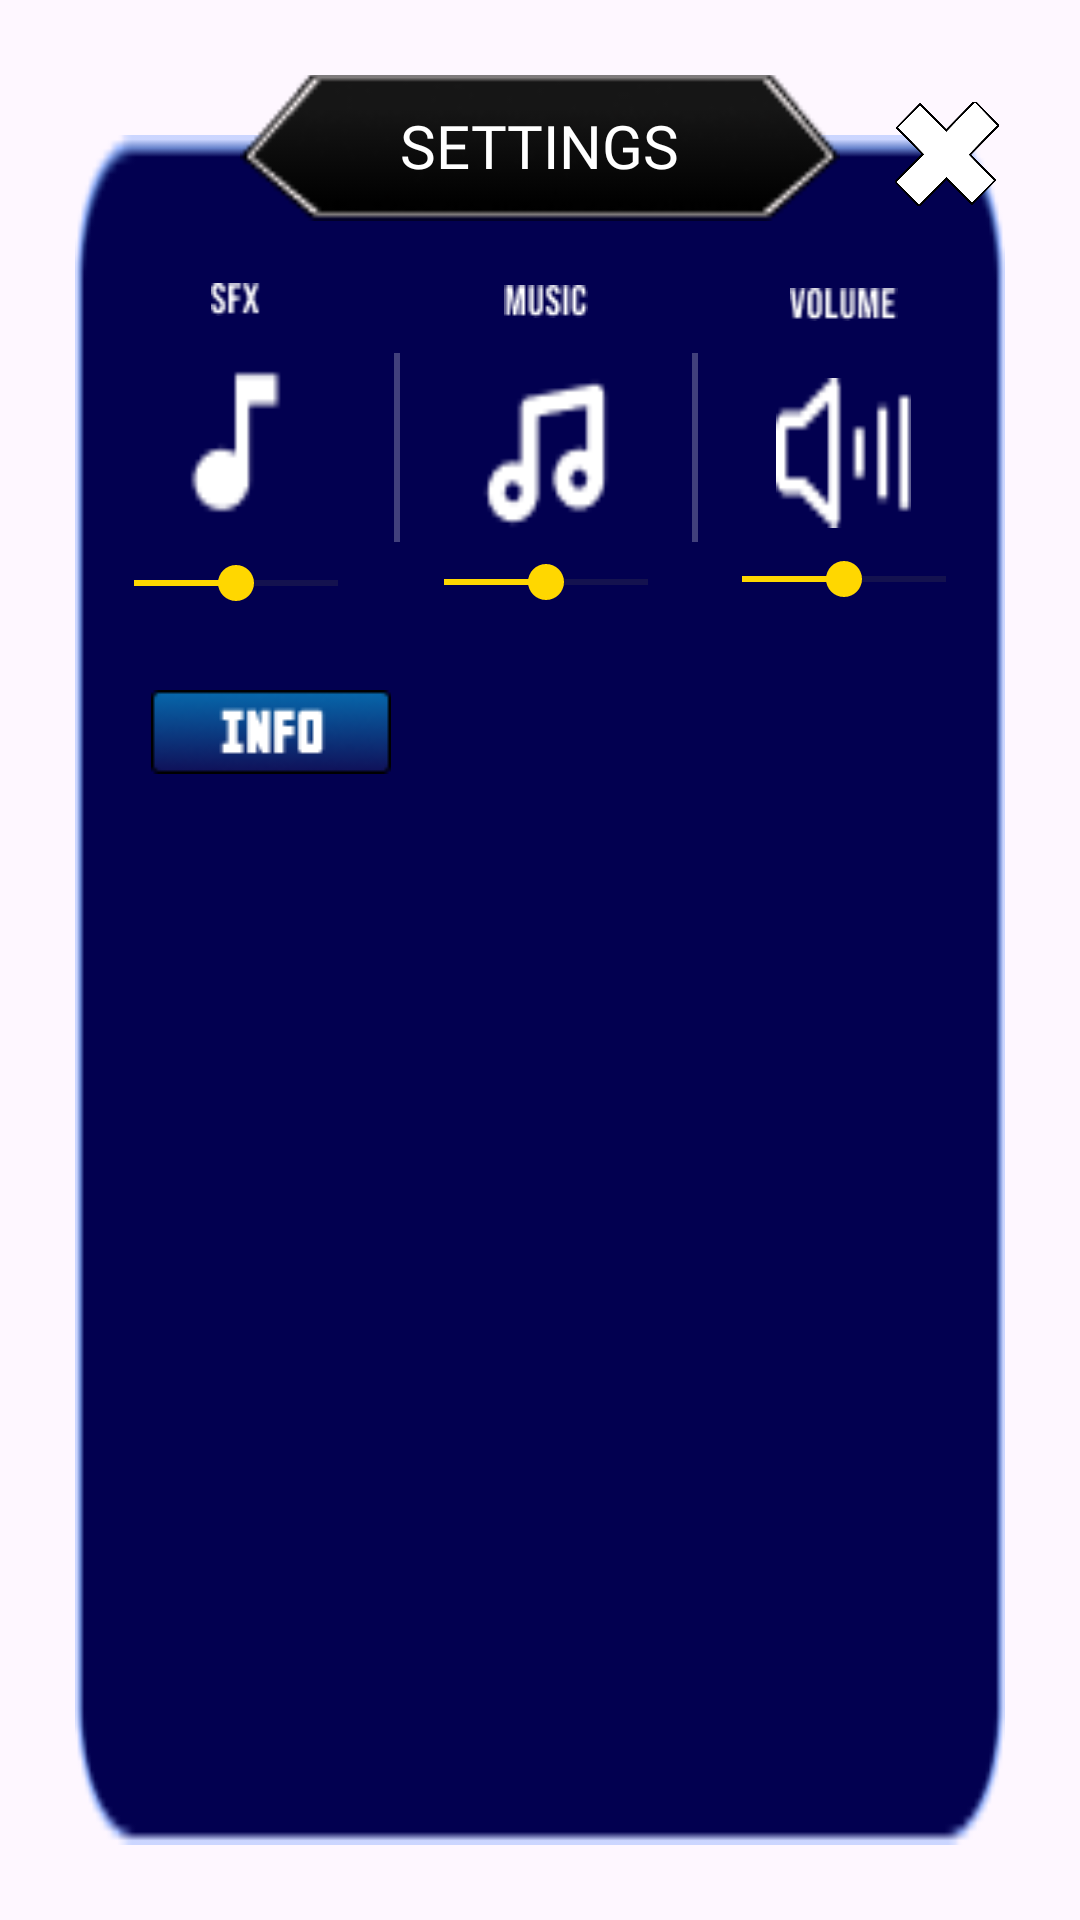

Screen size 1080 x 1920. Icon name, then its center in pixels as (x=x, y=y):
music: (x=546, y=453)
silang: (x=946, y=154)
volume: (x=843, y=453)
